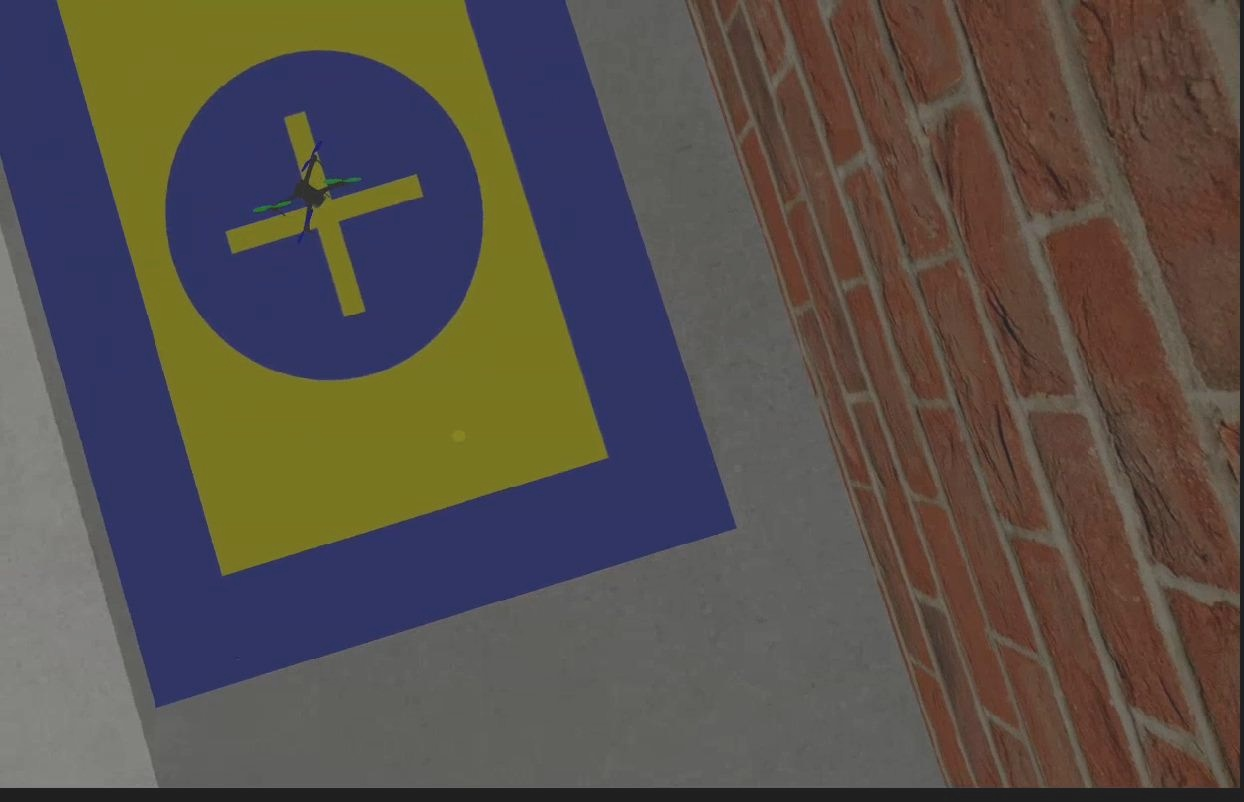large_base: (0, 1, 734, 707)
